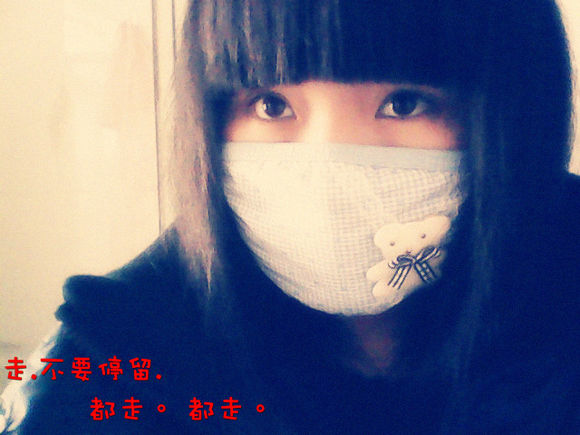face_mask: (221, 29, 470, 317)
